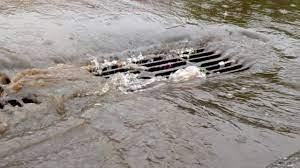open drainage-overflowing-: (5, 14, 266, 128)
